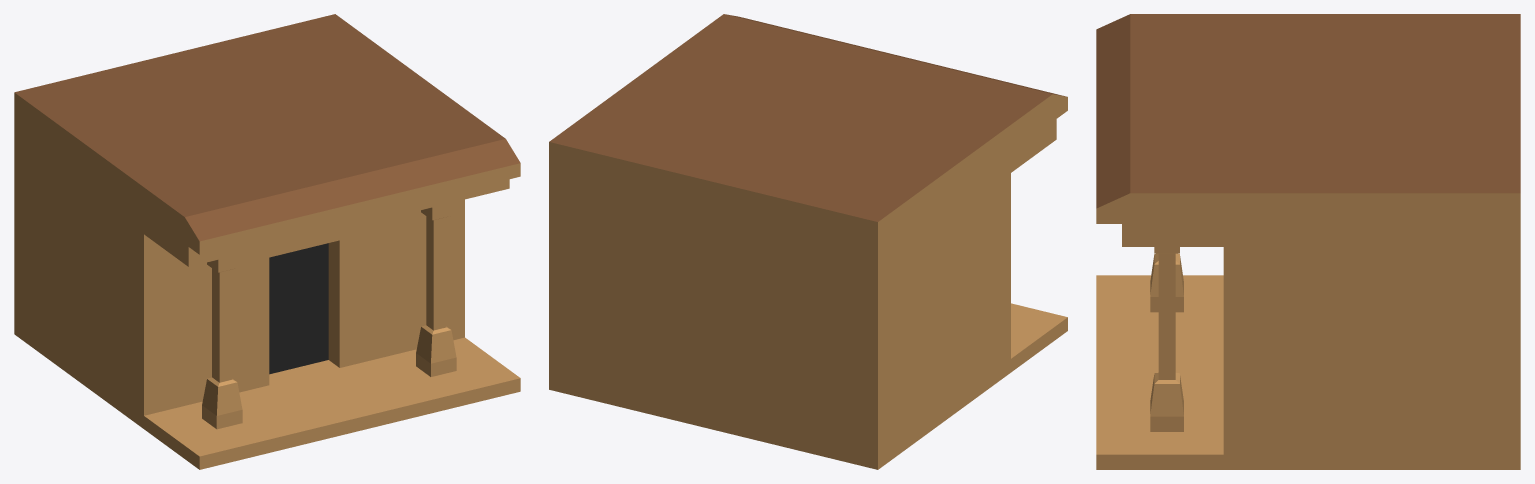
The model's file is india_hindu-wall-interior-door.fbx.
3 renders of one model, left to right at view 1: azimuth 30°, elevation 25°; view 2: azimuth 150°, elevation 25°; view 3: azimuth 270°, elevation 25°, orthographic. The views are drawn at different scales.
Visible parts, largest first — view 1: india_hindu_wall_interior_door; view 2: india_hindu_wall_interior_door; view 3: india_hindu_wall_interior_door.
Part boxes in pixels (x1=…): india_hindu_wall_interior_door: x1=14, y1=14, x2=520, y2=469; india_hindu_wall_interior_door: x1=549, y1=14, x2=1067, y2=469; india_hindu_wall_interior_door: x1=1096, y1=14, x2=1520, y2=469.
Size of the model in its own units: 200 by 144 by 200.
